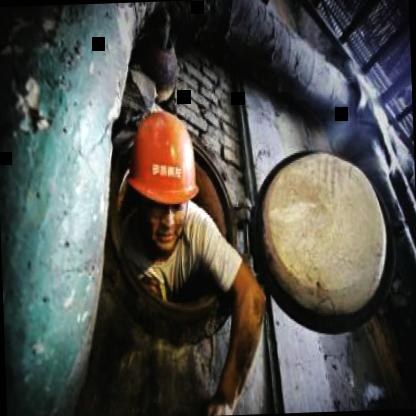helmet: (119, 101, 208, 258)
